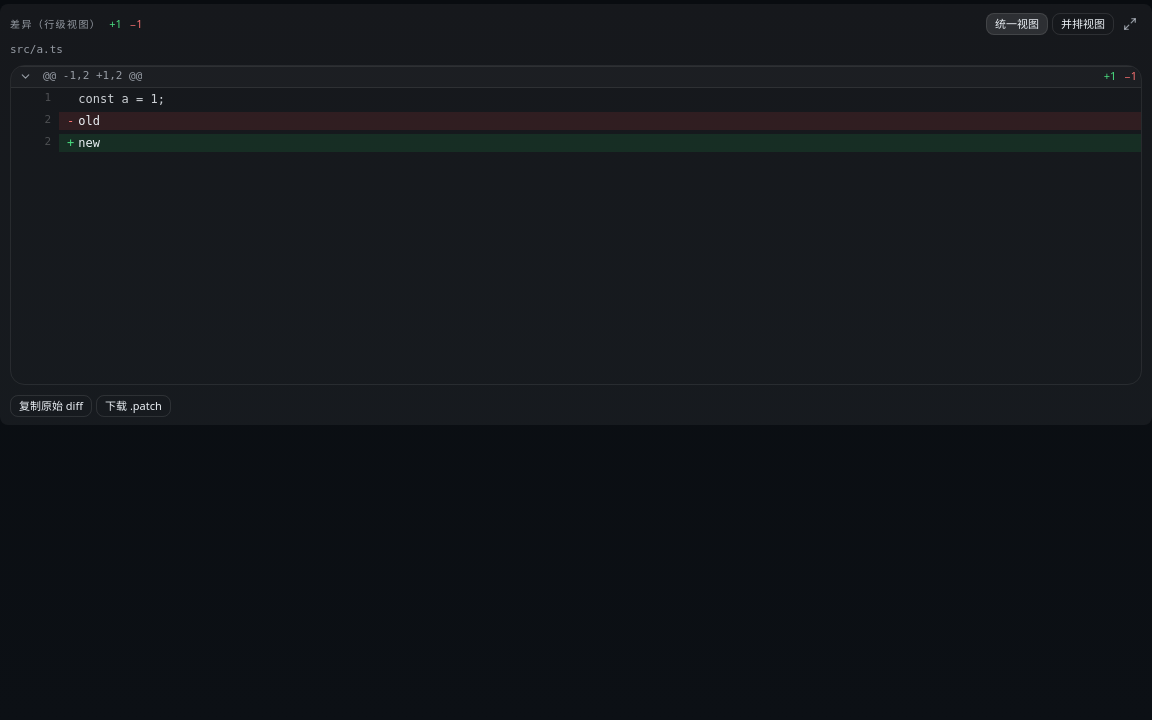
Test: ToolRowDiffPanel 放大差异视图 › 小窗口保留原样；点扩展图标后放大面板渲染同一份行模型
Expected: the element with test id "tool-row-diff-rows" is shown, [10,64,1142,384]
Click the button with test id "tool-row-diff-expand": (1130,24) [1118,12,1142,36]
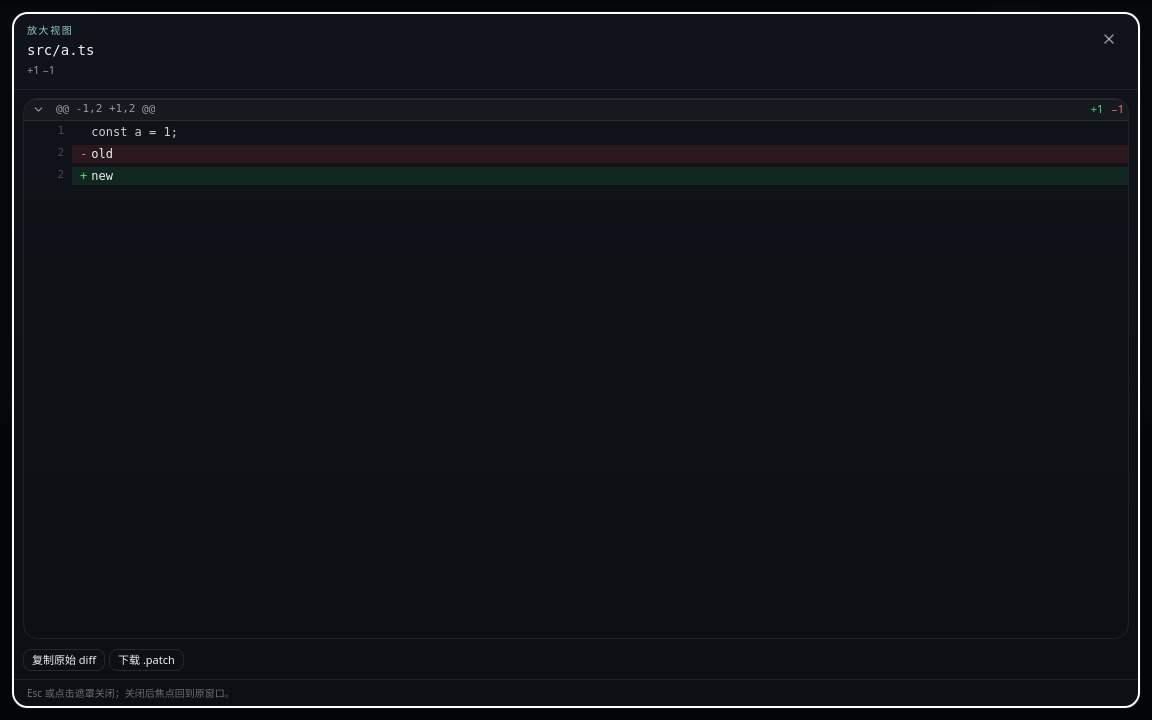
Now the dialog with test id "tool-row-diff-expanded" is shown
Now the element with test id "tool-row-diff-rows-expanded" is shown
Now the dialog with test id "tool-row-diff-expanded" shows "src/a.ts", box [27,42,94,58]
